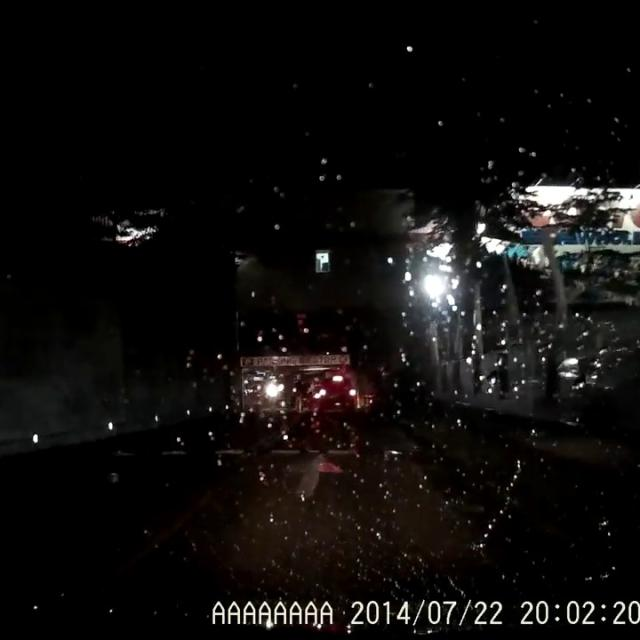Car: (303, 369, 356, 410)
